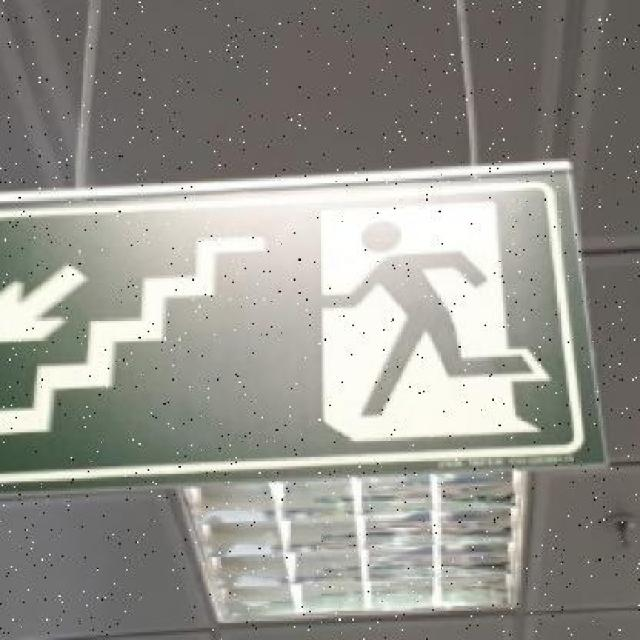emergency_exit: (1, 159, 607, 489)
